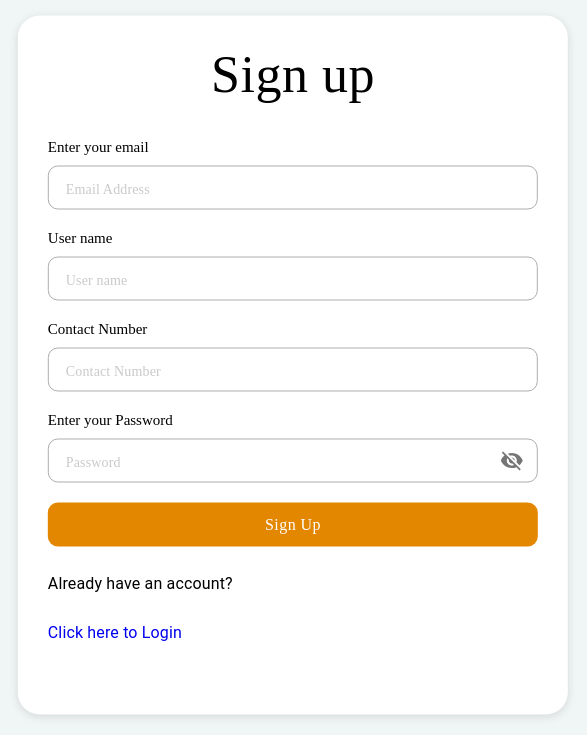
Register › should show password when the icon is clicked
Click the icon with test id "visible-off-icon". click: coordinates (512, 460)
box: [500,448,524,472]
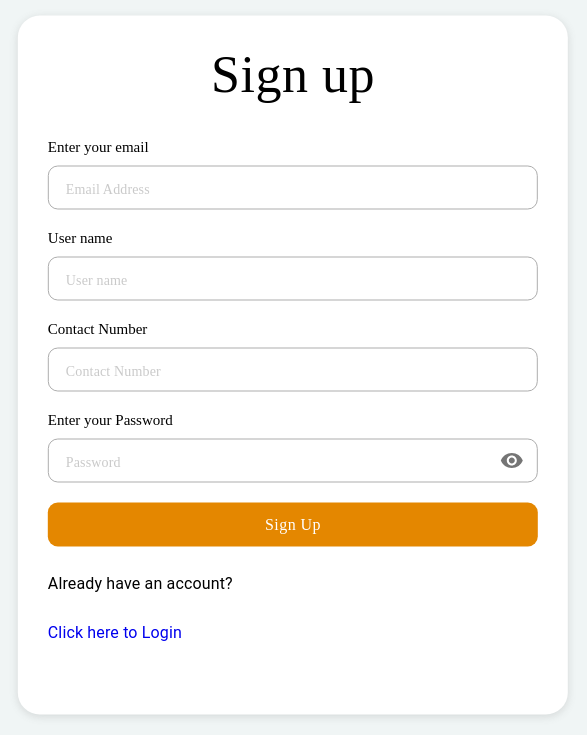
Expected: the icon with test id "visible-icon" is shown, [500,448,524,472]
